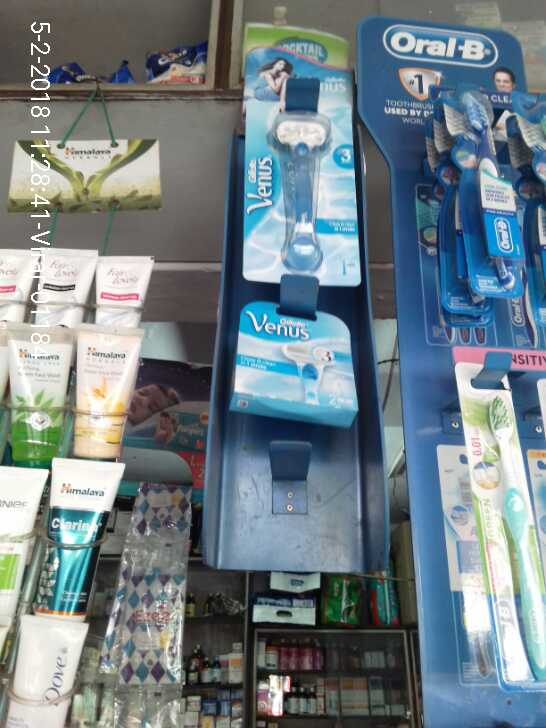beauty: (250, 53, 365, 288), (238, 295, 371, 432)
pharmacy: (449, 356, 543, 686), (438, 79, 516, 310)
